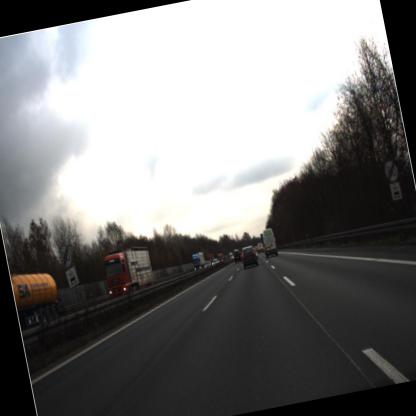other: (380, 156, 402, 186)
